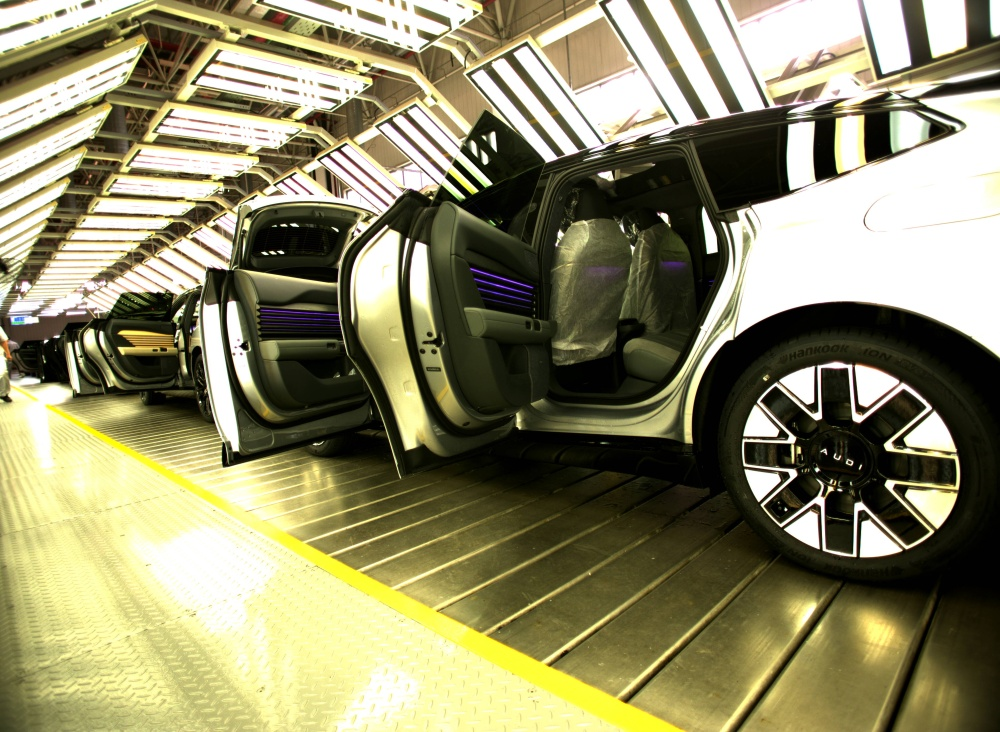armrest_color: (462, 305, 553, 343), (261, 339, 344, 361)
panel_color: (466, 260, 538, 319), (250, 299, 338, 335)
